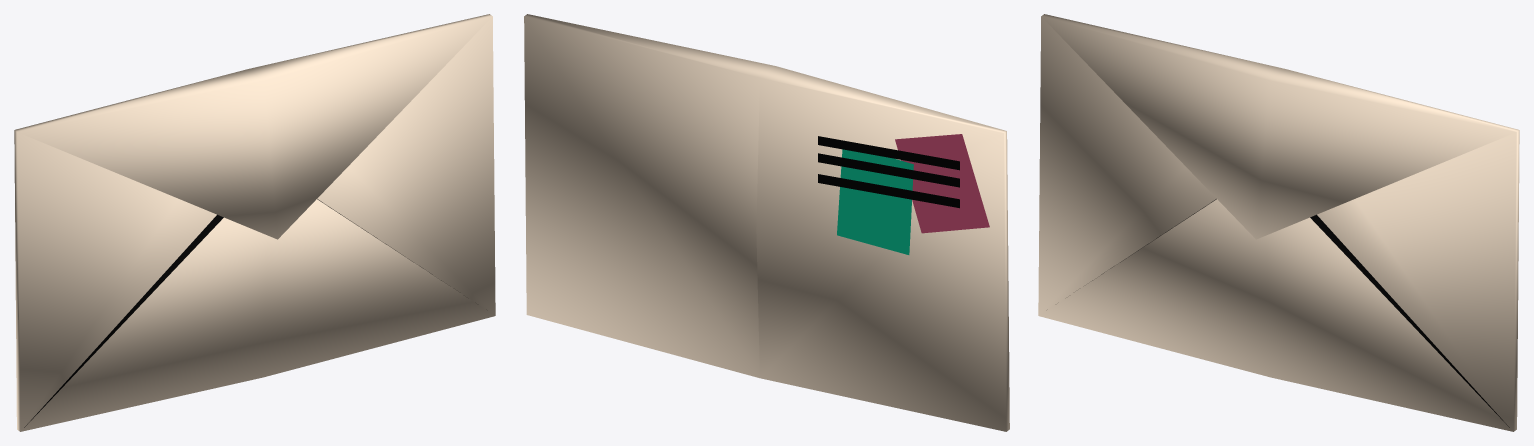
The model's file is letter.gltf.
The picture shows the model from 3 angles, left to right: view 1: azimuth 30°, elevation 25°; view 2: azimuth 150°, elevation 25°; view 3: azimuth 330°, elevation 25°; orthographic projection.
Parts seen in each view (by area): view 1: Cube; view 2: Cube, Plane; view 3: Cube.
Boxes of the visible parts, x1,y1,x2,y2 form: Cube: (14, 14, 495, 431); Cube: (524, 14, 1009, 431); Plane: (818, 134, 989, 254); Cube: (1038, 14, 1519, 431).
Size of the model in its own units: 2.03 by 1.22 by 0.2474.
